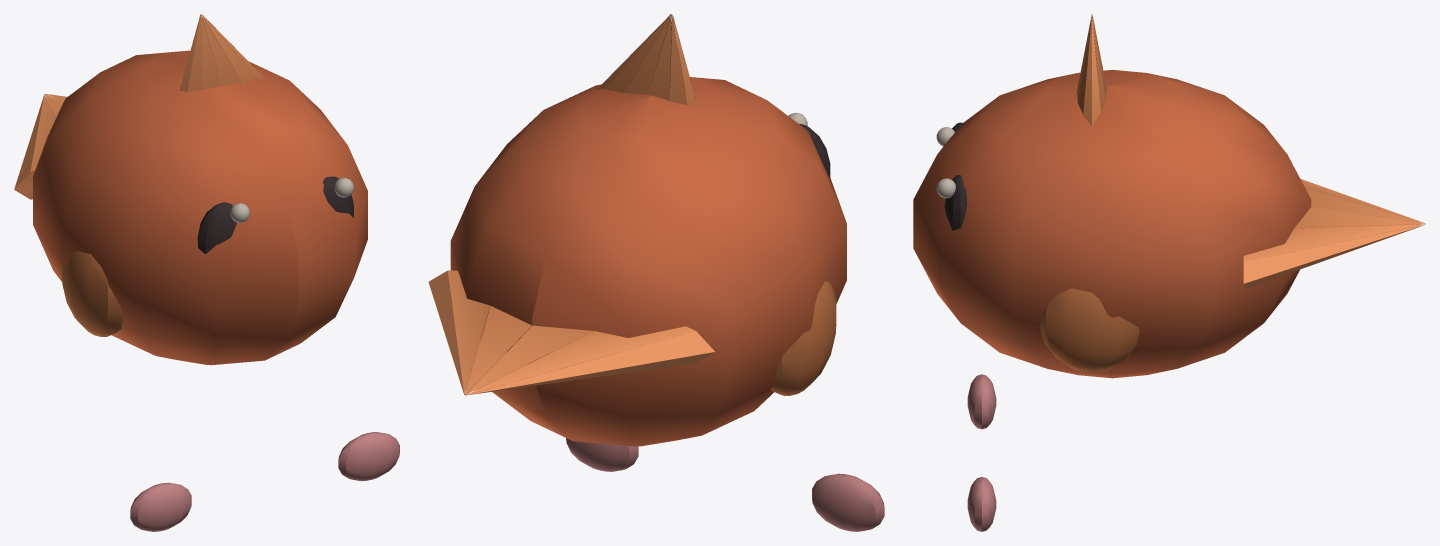
Rendered from pdd38717e.glb.
3 renders of one model, left to right at view 1: azimuth 30°, elevation 25°; view 2: azimuth 150°, elevation 25°; view 3: azimuth 270°, elevation 25°, orthographic. The views are drawn at different scales.
Visible parts, largest first — view 1: pet_pdd38717e; view 2: pet_pdd38717e; view 3: pet_pdd38717e.
Boxes of the visible parts, x1,y1,x2,y2 form: pet_pdd38717e: (14,14,399,531); pet_pdd38717e: (428,14,884,531); pet_pdd38717e: (913,14,1425,531).
Bounding box in the file's own units: 0.3191 × 0.4993 × 0.507.
